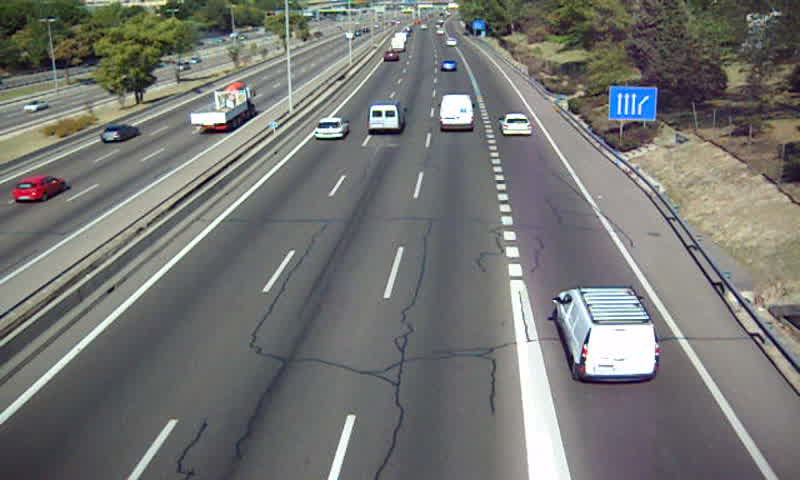car: (314, 116, 350, 141), (499, 113, 532, 136), (440, 59, 458, 73)
van: (553, 287, 661, 383), (439, 94, 475, 132), (369, 99, 408, 134)
